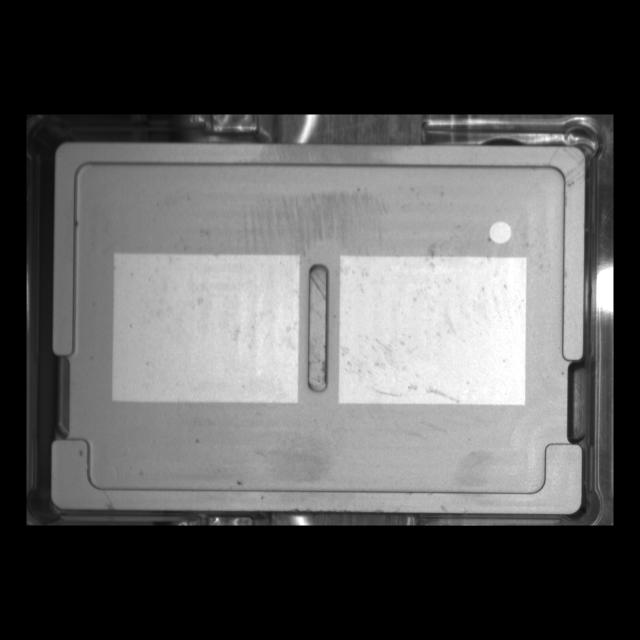door: (39, 430, 592, 523)
point: (482, 210, 520, 252)
